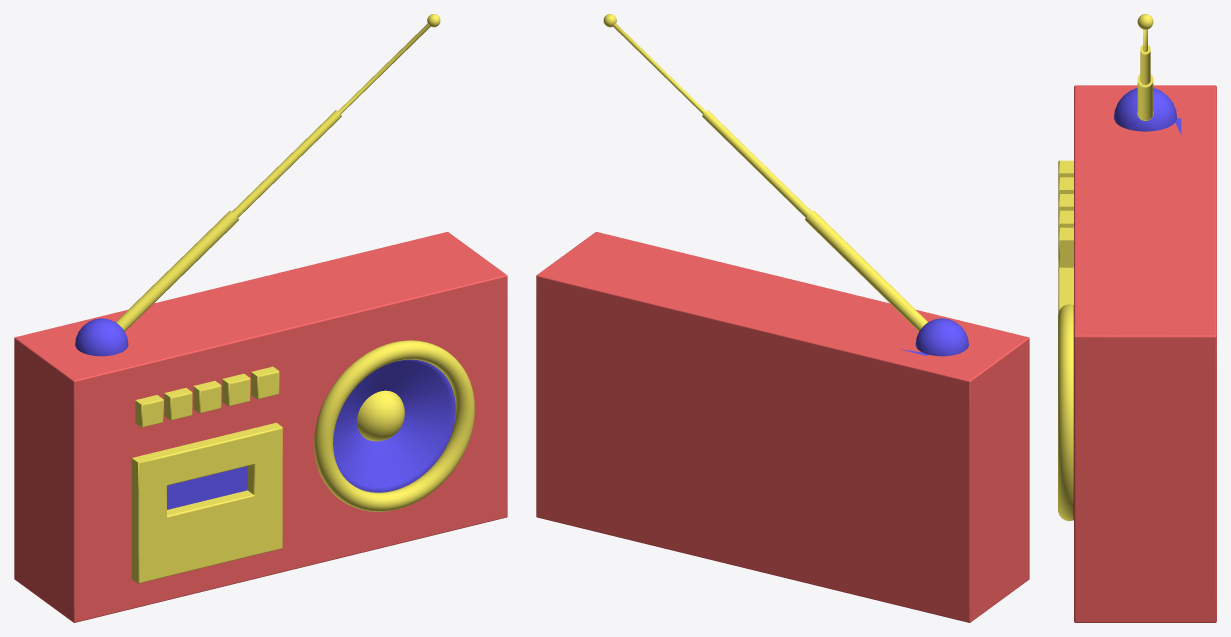
File: LoopDreams_VR_Assets_R7_Radio.fbx
3 views of the same model, side by side, from view 1: azimuth 30°, elevation 25°; view 2: azimuth 150°, elevation 25°; view 3: azimuth 270°, elevation 25° (orthographic). The views are drawn at different scales.
Visible parts, largest first — view 1: Radio; view 2: Radio; view 3: Radio.
Part boxes in pixels (x1=…): Radio: x1=14, y1=14, x2=507, y2=622; Radio: x1=536, y1=14, x2=1029, y2=622; Radio: x1=1058, y1=14, x2=1216, y2=622.
Size of the model in its own units: 375 by 406 by 100.
